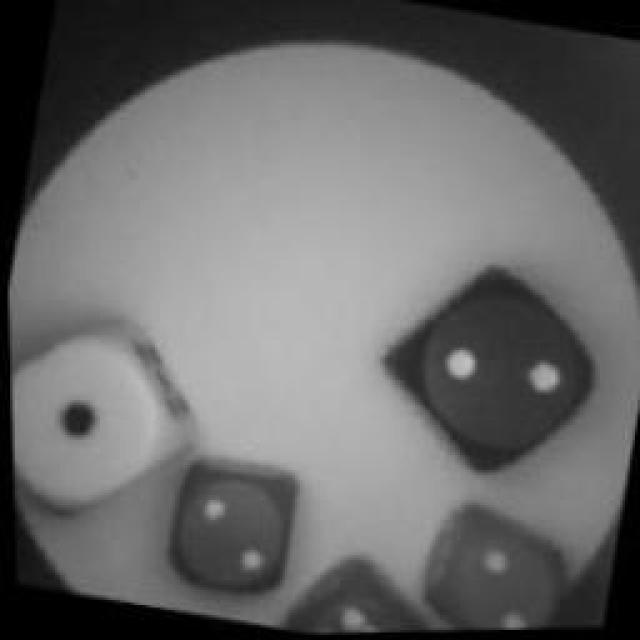dice_1: (7, 306, 195, 536)
dice_2: (361, 249, 619, 496), (151, 442, 311, 602), (411, 499, 581, 631)
dice_6: (285, 543, 443, 635)
